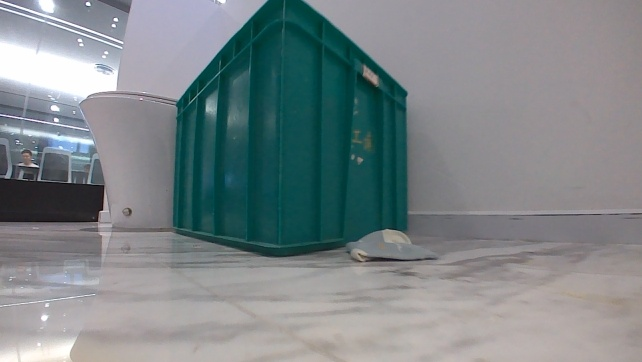socks: (344, 225, 438, 264)
toilet: (77, 88, 182, 233)
